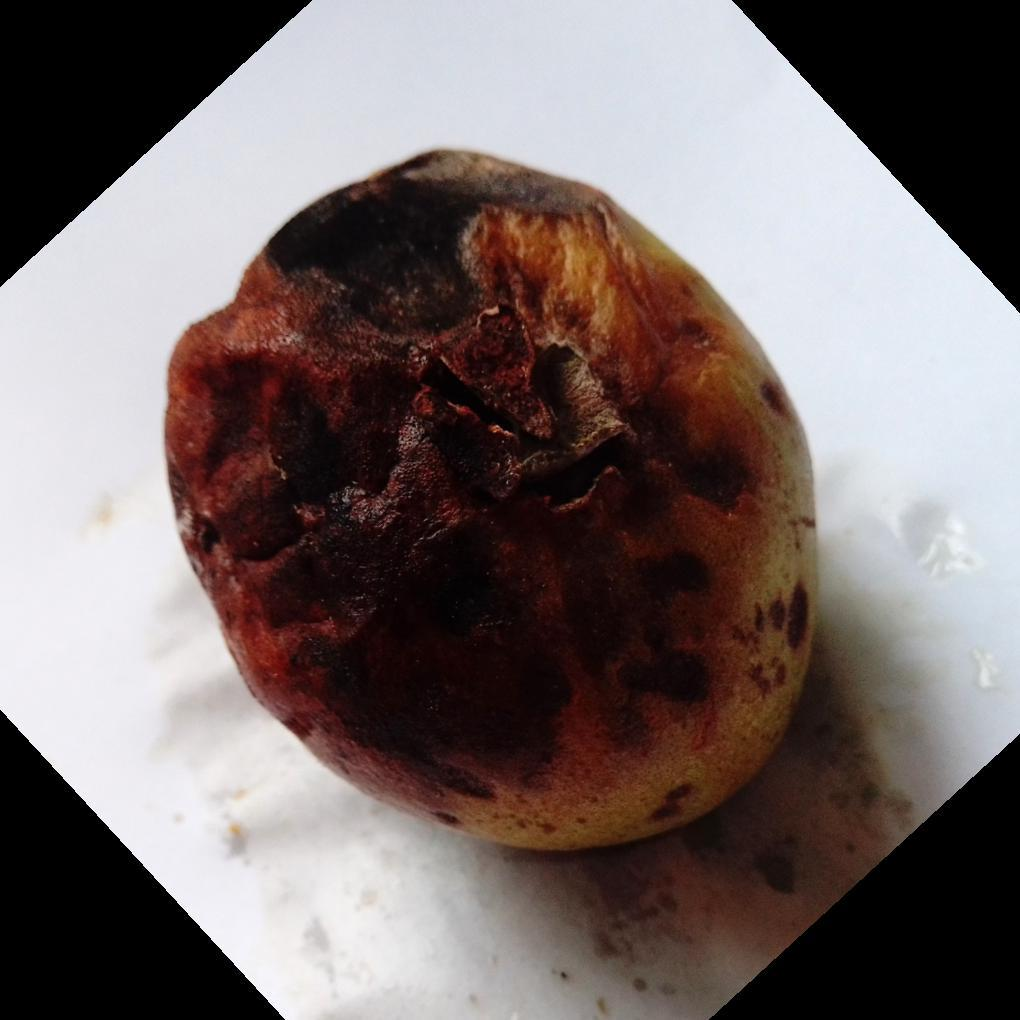FreshOrange: (161, 148, 820, 857)
